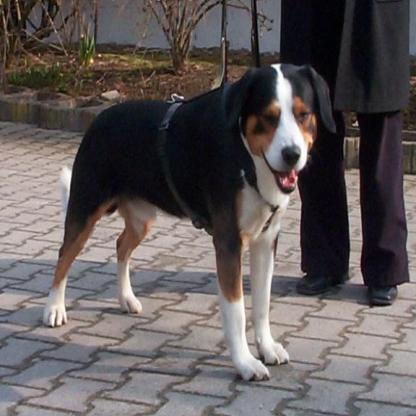EntleBucher: (37, 58, 336, 384)
